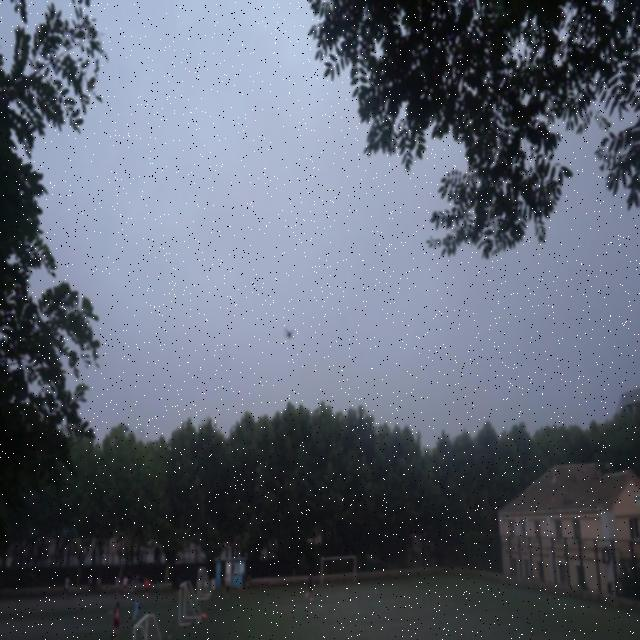UAV: (283, 327, 295, 340)
